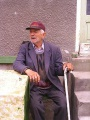male: (25, 23, 45, 43)
